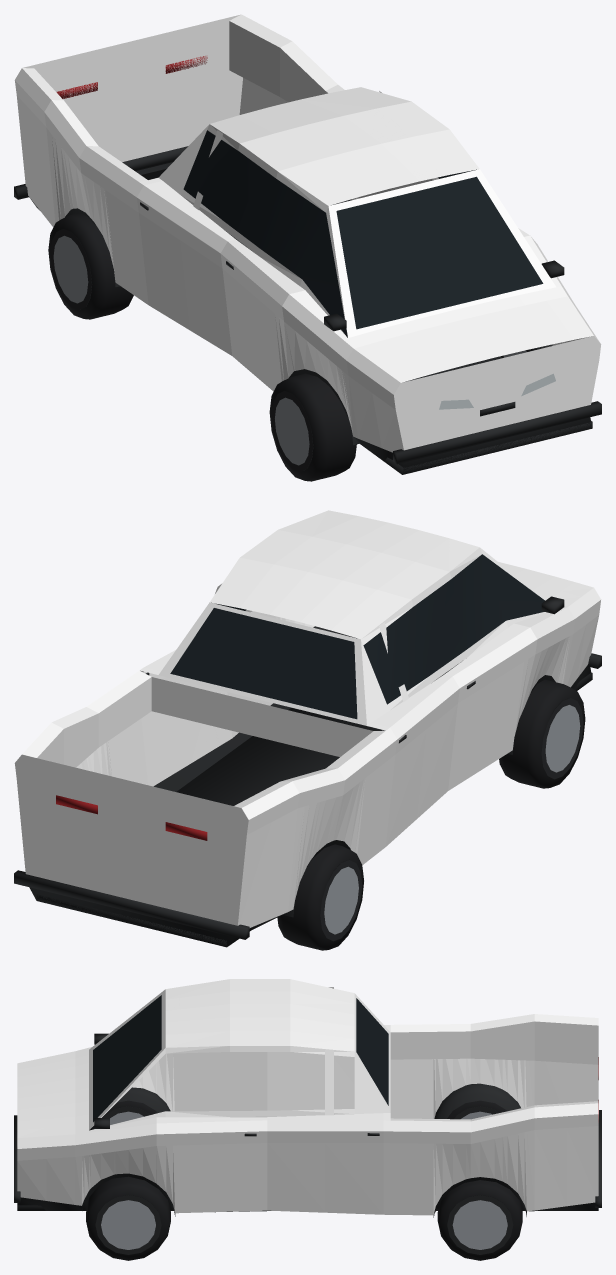
File: ottavo_espora.glb
3 renders of one model, top to bottom at view 1: azimuth 30°, elevation 25°; view 2: azimuth 150°, elevation 25°; view 3: azimuth 270°, elevation 25°, orthographic. The views are drawn at different scales.
Visible parts, largest first — view 1: Body_Paint, Body_Details, Mount_FrontLeft_Wheel_Details, Mount_RearLeft_Wheel_Details; view 2: Body_Paint, Body_Details, Mount_FrontLeft_Wheel_Details, Mount_RearLeft_Wheel_Details; view 3: Body_Paint, Body_Details, Mount_FrontRight_Wheel_Details, Mount_RearRight_Wheel_Details, Mount_FrontLeft_Wheel_Details, Mount_RearLeft_Wheel_Details.
Part boxes in pixels (x1,y1,x2,y2): Body_Paint: (14, 14, 601, 452); Body_Details: (14, 56, 601, 474); Mount_FrontLeft_Wheel_Details: (269, 373, 356, 481); Mount_RearLeft_Wheel_Details: (48, 213, 133, 319); Body_Paint: (14, 510, 601, 927); Body_Details: (14, 554, 601, 947); Mount_FrontLeft_Wheel_Details: (499, 679, 585, 788); Mount_RearLeft_Wheel_Details: (277, 844, 363, 950); Body_Paint: (17, 979, 598, 1215); Body_Details: (14, 995, 601, 1217); Mount_FrontRight_Wheel_Details: (86, 1176, 170, 1260); Mount_RearRight_Wheel_Details: (437, 1180, 522, 1260); Mount_FrontLeft_Wheel_Details: (91, 1100, 157, 1129); Mount_RearLeft_Wheel_Details: (447, 1100, 507, 1119).
Size of the model in its own units: 2.08 by 1.85 by 4.91.
Materials: 2 (1 with a texture image).
